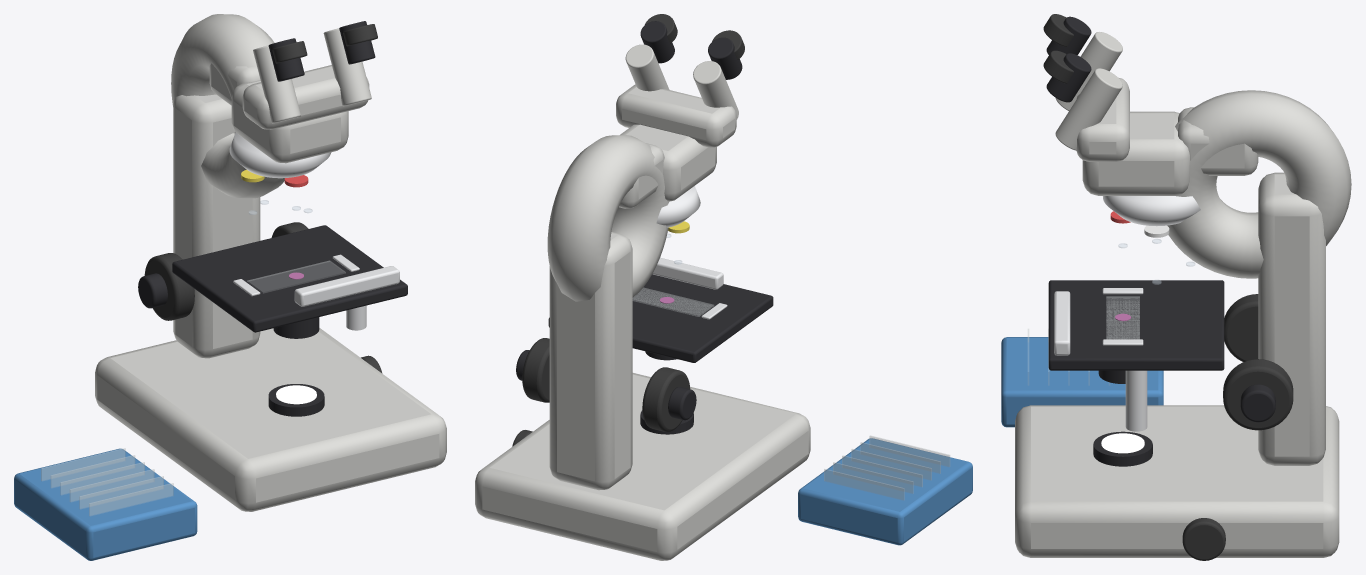
Rendered from microscope.glb.
3 views of the same model, side by side, from view 1: azimuth 30°, elevation 25°; view 2: azimuth 150°, elevation 25°; view 3: azimuth 270°, elevation 25° (orthographic). The views are drawn at different scales.
Parts seen in each view (by area): view 1: base, slide_box, pillar, stage_plate, neck, head, prism_housing, mech_stage_arm, nosepiece, tube, tube.001, coarse_knob (+16 smaller); view 2: base, pillar, neck, slide_box, stage_plate, prism_housing, head, coarse_knob, coarse_knob.001, tube, tube.001, mech_stage_arm (+12 smaller); view 3: base, neck, pillar, stage_plate, slide_box, head, coarse_knob.001, prism_housing, tube.001, nosepiece, head_mount, coarse_knob (+12 smaller).
Part boxes in pixels (x1,y1,x2,y2): base: [95, 328, 446, 511]; slide_box: [14, 448, 197, 560]; pillar: [173, 94, 260, 358]; stage_plate: [172, 225, 407, 332]; neck: [171, 14, 284, 198]; head: [231, 80, 348, 163]; prism_housing: [242, 65, 369, 129]; mech_stage_arm: [294, 266, 399, 306]; nosepiece: [229, 132, 331, 178]; tube: [253, 45, 300, 123]; tube.001: [323, 28, 371, 106]; coarse_knob: [144, 253, 194, 320]; base: [475, 373, 810, 560]; pillar: [549, 232, 632, 490]; neck: [547, 135, 669, 301]; slide_box: [798, 438, 972, 545]; stage_plate: [548, 274, 773, 362]; prism_housing: [616, 84, 736, 147]; head: [620, 124, 716, 201]; coarse_knob: [642, 367, 690, 431]; coarse_knob.001: [522, 338, 549, 402]; tube: [693, 61, 738, 119]; tube.001: [625, 44, 669, 91]; mech_stage_arm: [652, 257, 723, 289]; base: [1015, 405, 1339, 557]; neck: [1167, 90, 1351, 278]; pillar: [1258, 172, 1325, 465]; stage_plate: [1048, 280, 1224, 370]; slide_box: [1001, 337, 1163, 427]; head: [1082, 111, 1189, 195]; coarse_knob.001: [1223, 359, 1293, 430]; prism_housing: [1076, 77, 1129, 161]; tube.001: [1055, 68, 1122, 150]; nosepiece: [1103, 196, 1200, 226]; head_mount: [1178, 107, 1258, 175]; coarse_knob: [1224, 294, 1258, 361].
Size of the model in its own units: 0.345 by 0.387 by 0.259.
